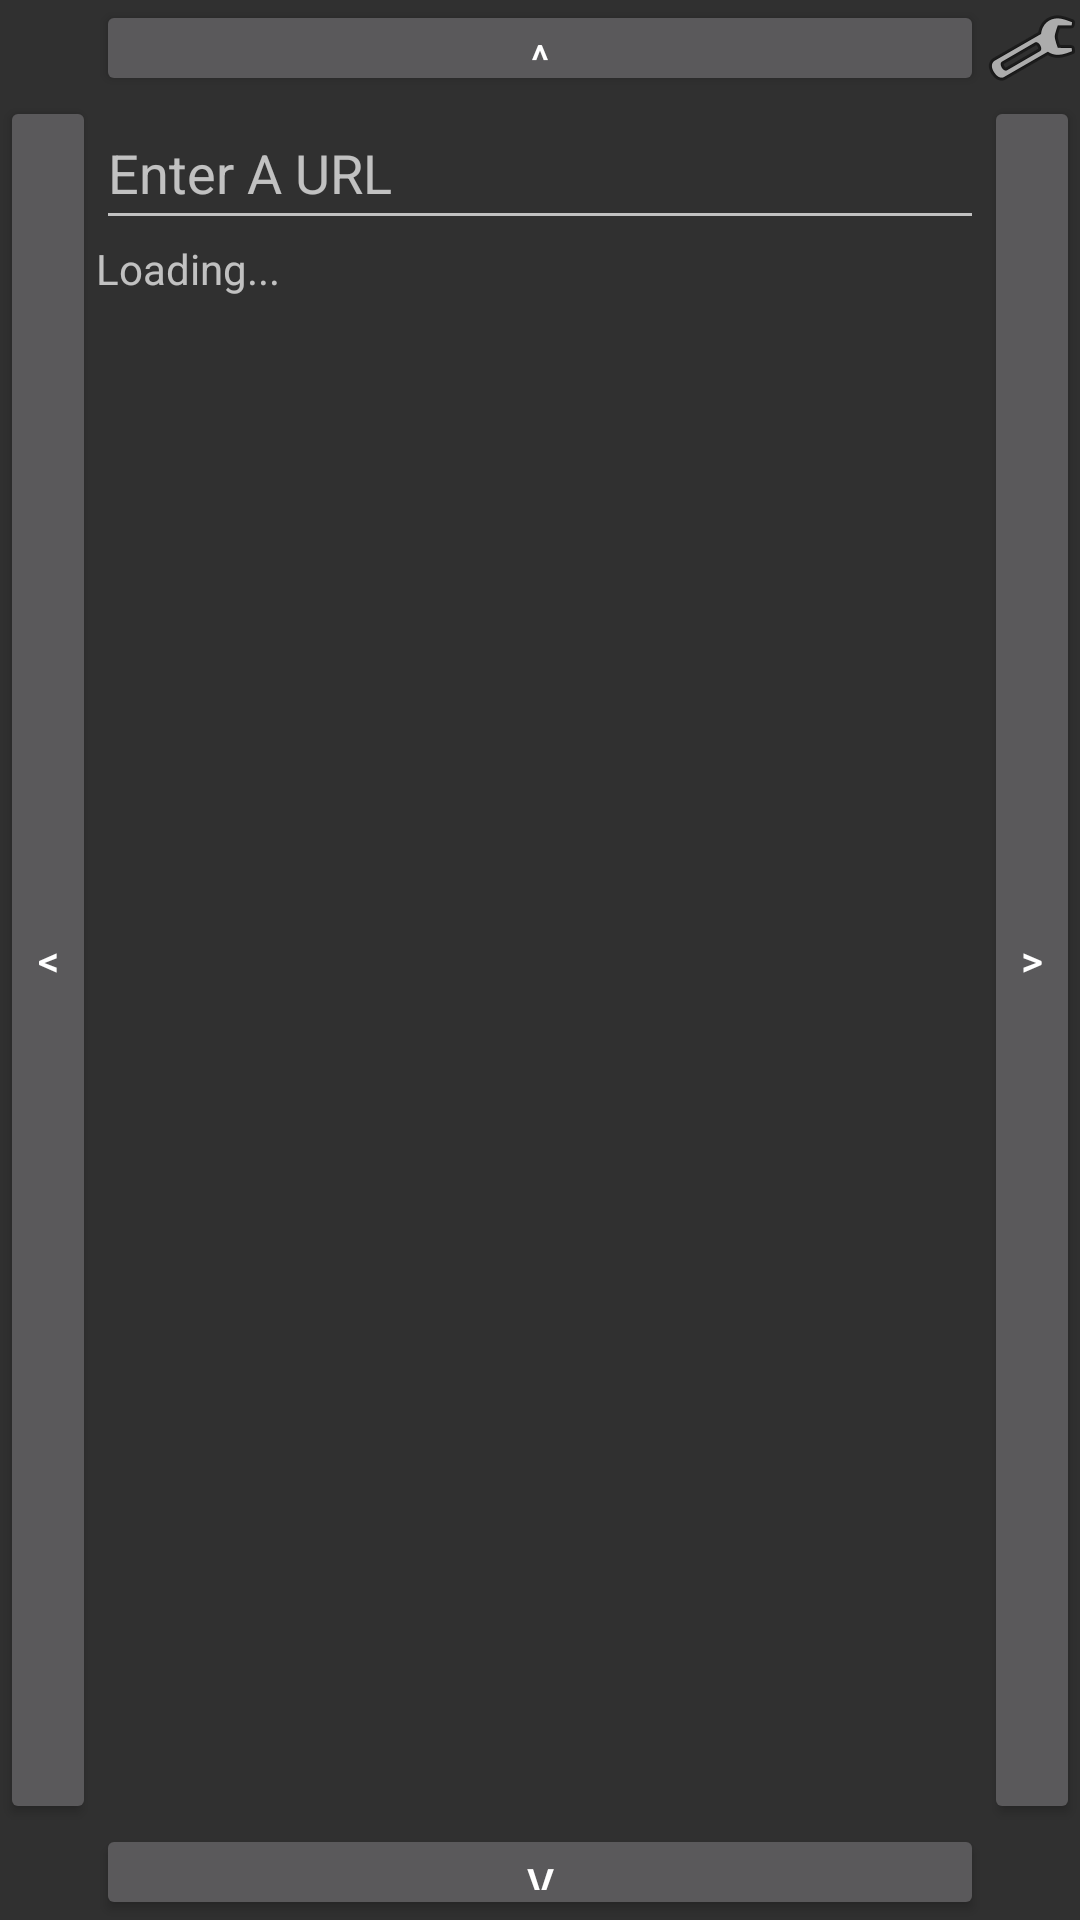

Named icons in this screenshot (1080px x 1920px) and their bounding boxes, (x1, y1, x2, y2):
manage: (991, 17, 1073, 79)
